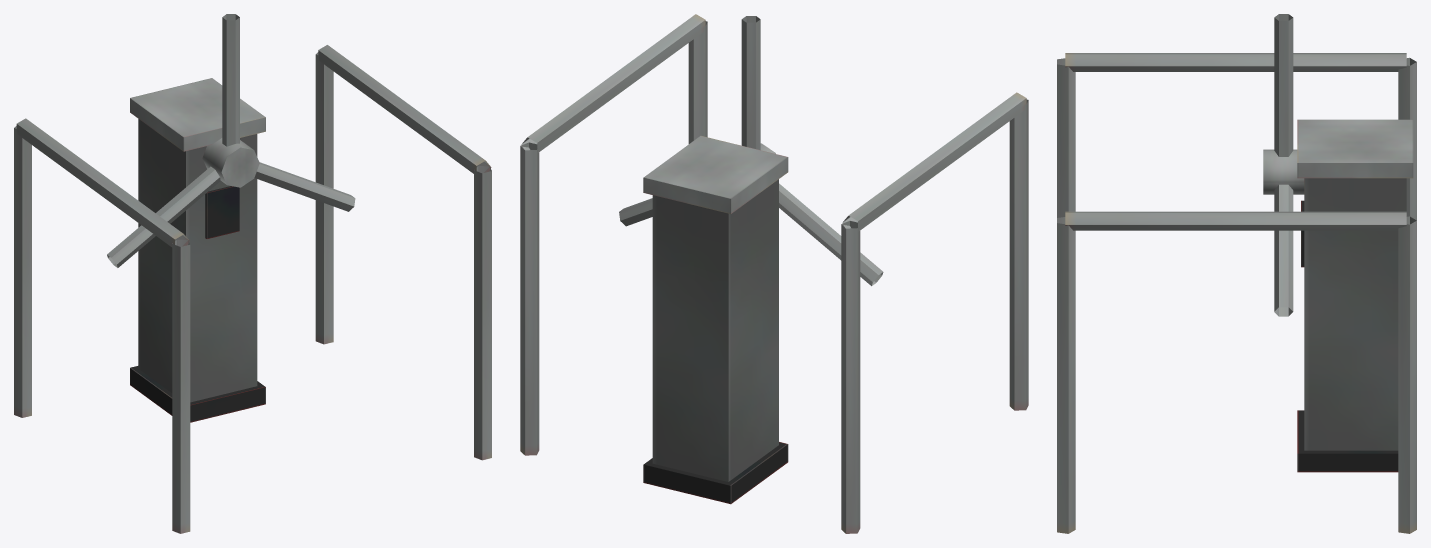
File: turnstile.obj
The picture shows the model from 3 angles, left to right: view 1: azimuth 30°, elevation 25°; view 2: azimuth 150°, elevation 25°; view 3: azimuth 270°, elevation 25°; orthographic projection. The views are drawn at different scales.
Visible parts, largest first — view 1: turnstile, turnstile_arms; view 2: turnstile, turnstile_arms; view 3: turnstile, turnstile_arms.
Part boxes in pixels (box(x1,y1,x2,y2)): turnstile: box(14, 45, 491, 533); turnstile_arms: box(107, 14, 355, 267); turnstile: box(520, 14, 1028, 533); turnstile_arms: box(619, 16, 883, 286); turnstile: box(1057, 53, 1416, 533); turnstile_arms: box(1274, 14, 1293, 316).
Size of the model in its own units: 1.16 by 1.4 by 1.05.
1 material, 1 textured.
